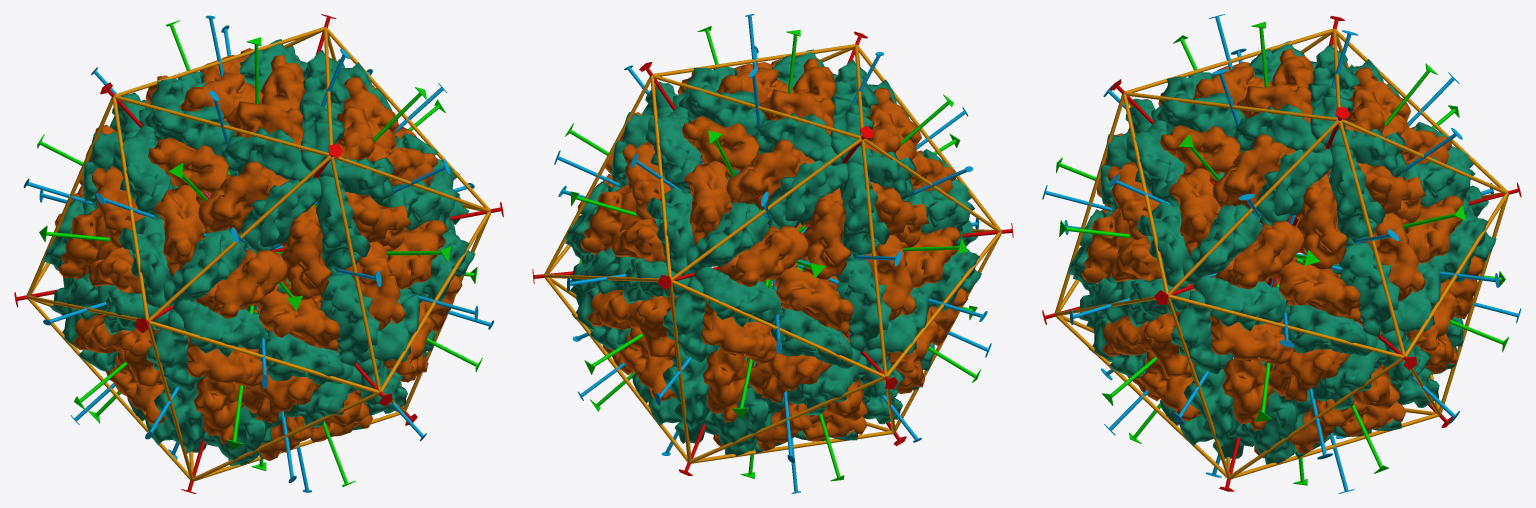
3 renders of one model, left to right at view 1: azimuth 30°, elevation 25°; view 2: azimuth 150°, elevation 25°; view 3: azimuth 270°, elevation 25°, orthographic. The views are drawn at different scales.
Bounding box in the file's own units: 517 × 516 × 502.
